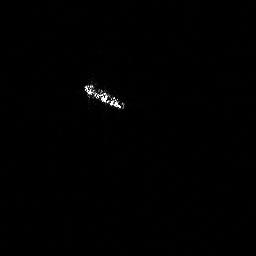ship: (81, 80, 128, 113)
